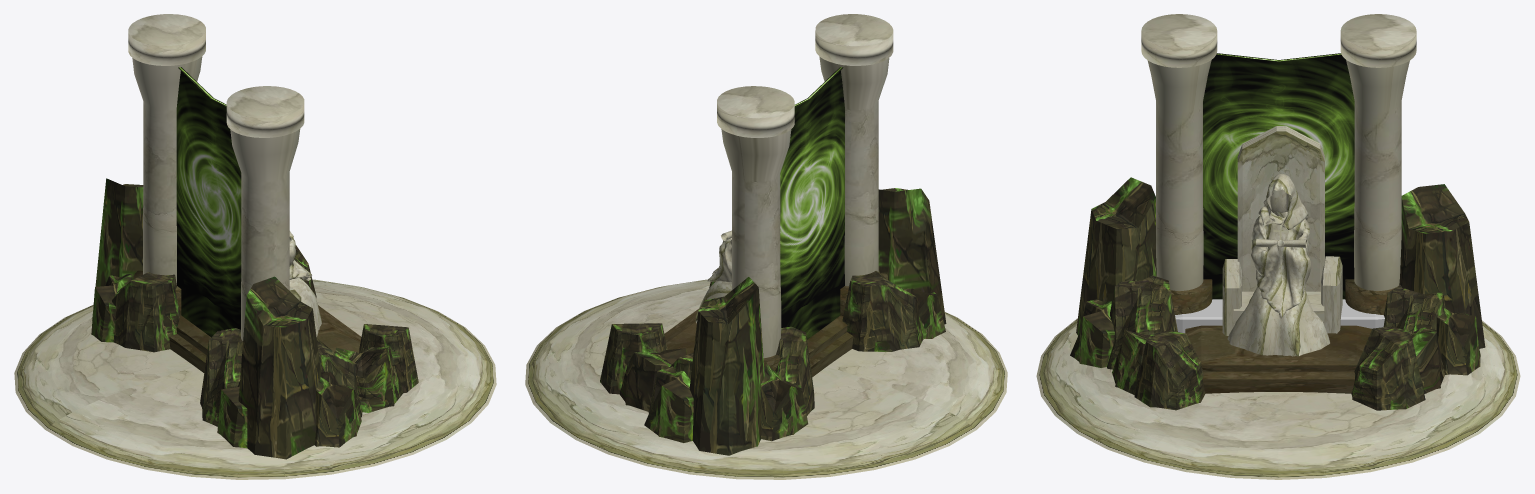
Rendered from yppersteprestinnen.dae.
The picture shows the model from 3 angles, left to right: view 1: azimuth 30°, elevation 25°; view 2: azimuth 150°, elevation 25°; view 3: azimuth 270°, elevation 25°; orthographic projection.
Parts seen in each view (by area): view 1: Sphere, Cube.004, Cube.014, Cylinder.001, Cylinder.002, Cube.021, Cube.015, Cylinder.004, Cylinder.005, Cube.018, Cube.025, Cube.013 (+7 smaller); view 2: Sphere, Cube.004, Cube.015, Cylinder.002, Cylinder.001, Cube.014, Cube.018, Cylinder.004, Cylinder.005, Cube.016, Cube.020, Cube.022 (+6 smaller); view 3: Sphere, Cube.004, Cylinder.002, Cylinder.001, Robe_Bake_Completed, Cube.015, Cube.003, Cube.014, Cube, Cube.022, Cube.023, Cylinder.005 (+14 smaller).
Part boxes in pixels (box(x1,y1,x2,y2)): Sphere: box(14, 279, 496, 479); Cube.004: box(176, 67, 241, 337); Cube.014: box(238, 276, 321, 459); Cylinder.001: box(230, 129, 300, 340); Cylinder.002: box(132, 56, 202, 284); Cube.021: box(112, 272, 180, 352); Cube.015: box(92, 178, 143, 319); Cylinder.004: box(226, 86, 304, 137); Cylinder.005: box(128, 14, 205, 65); Cube.018: box(200, 328, 242, 426); Cube.025: box(335, 346, 403, 412); Cube.013: box(314, 377, 361, 447); Sphere: box(525, 279, 1007, 479); Cube.004: box(780, 67, 844, 339); Cube.015: box(689, 277, 764, 455); Cylinder.002: box(721, 129, 791, 358); Cylinder.001: box(819, 56, 889, 286); Cube.014: box(878, 188, 946, 324); Cube.018: box(842, 271, 923, 351); Cylinder.004: box(815, 14, 893, 65); Cylinder.005: box(717, 86, 794, 137); Cube.016: box(644, 366, 693, 442); Cube.020: box(760, 364, 808, 441); Cube.022: box(600, 323, 667, 394); Sphere: box(1036, 318, 1520, 479); Cube.004: box(1203, 53, 1354, 299); Cylinder.002: box(1346, 60, 1409, 290); Cylinder.001: box(1147, 60, 1211, 290); Robe_Bake_Completed: box(1227, 173, 1329, 356); Cube.015: box(1399, 184, 1485, 348); Cube.003: box(1237, 126, 1324, 291); Cube.014: box(1076, 177, 1156, 335); Cube: box(1185, 325, 1371, 371); Cube.022: box(1351, 326, 1425, 410); Cube.023: box(1134, 330, 1205, 410); Cylinder.005: box(1340, 14, 1416, 67).
Size of the model in its own units: 14.13 by 13.92 by 10.34.
